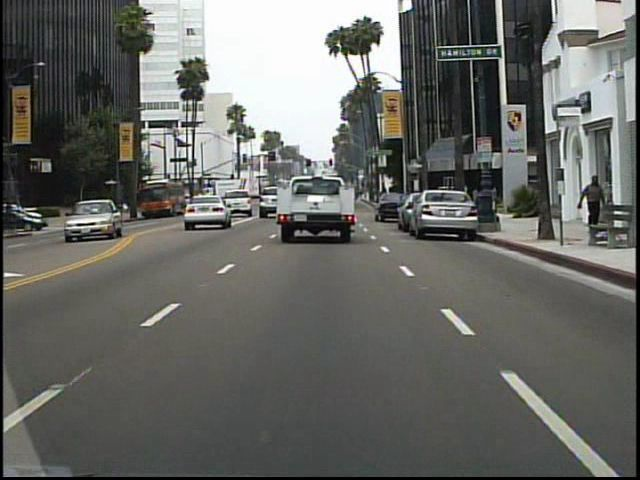person: (576, 174, 607, 237), (100, 194, 115, 223)
